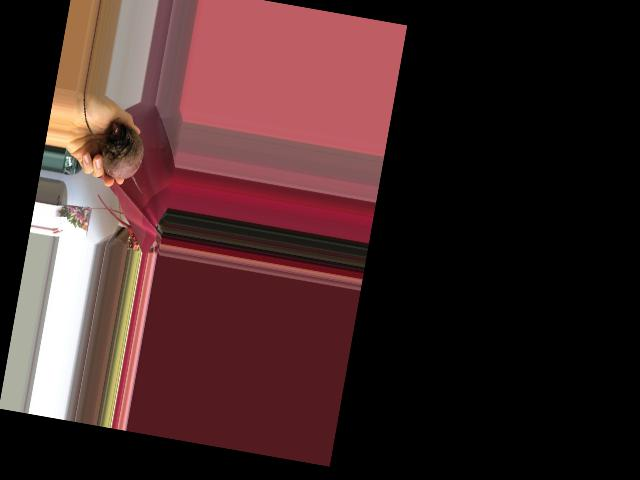beet: (67, 92, 159, 194)
